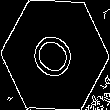O_SE: (26, 23, 84, 87)
